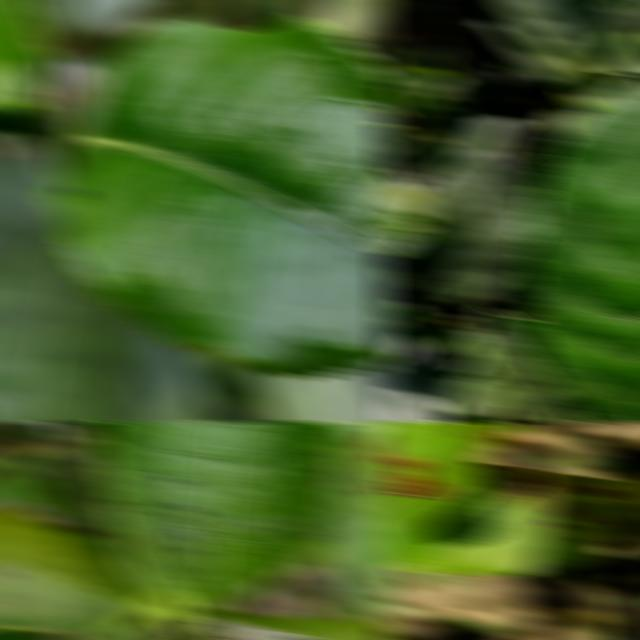Leaf: (45, 16, 392, 378), (96, 422, 347, 609), (521, 78, 640, 422), (0, 224, 149, 422), (395, 464, 640, 576), (376, 422, 522, 570), (408, 151, 540, 308), (0, 503, 153, 631), (470, 307, 592, 422), (494, 0, 611, 84), (321, 492, 392, 618), (253, 361, 392, 422), (132, 324, 209, 422), (422, 333, 505, 419), (376, 327, 450, 422), (0, 0, 51, 123), (425, 115, 527, 171), (390, 66, 464, 119), (64, 0, 169, 33), (591, 31, 640, 76), (592, 0, 640, 33)
